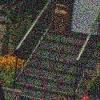stairs: (16, 29, 80, 97)
